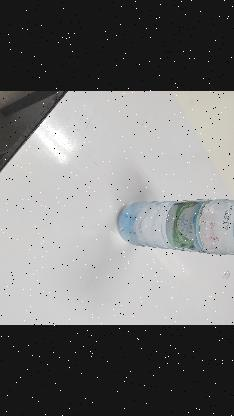Plastic Bottle: (113, 196, 234, 256)
